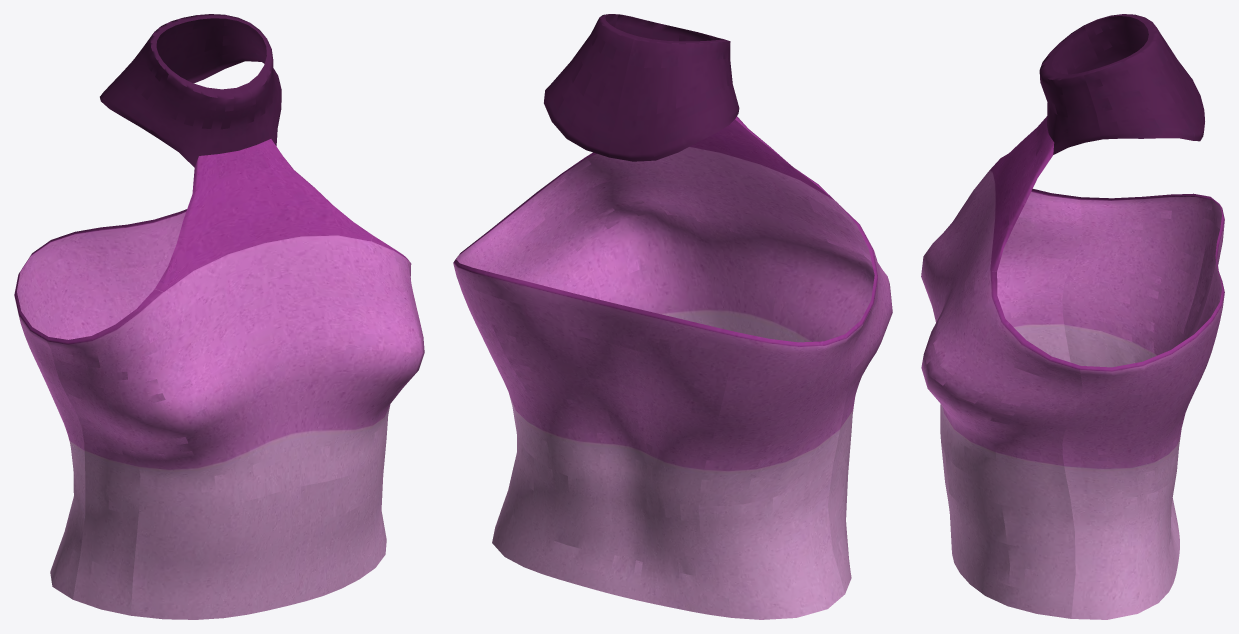
File: toigo-turtleneck-halter-top.glb
The picture shows the model from 3 angles, left to right: view 1: azimuth 30°, elevation 25°; view 2: azimuth 150°, elevation 25°; view 3: azimuth 270°, elevation 25°; orthographic projection. The views are drawn at different scales.
Visible parts, largest first — view 1: turtleneck halter top; view 2: turtleneck halter top; view 3: turtleneck halter top.
Part boxes in pixels (x1=…): turtleneck halter top: x1=14, y1=14, x2=424, y2=619; turtleneck halter top: x1=453, y1=14, x2=892, y2=619; turtleneck halter top: x1=921, y1=14, x2=1224, y2=619.
Bounding box in the file's own units: 30.77 × 42.8 × 23.08.
1 material, 1 textured.
